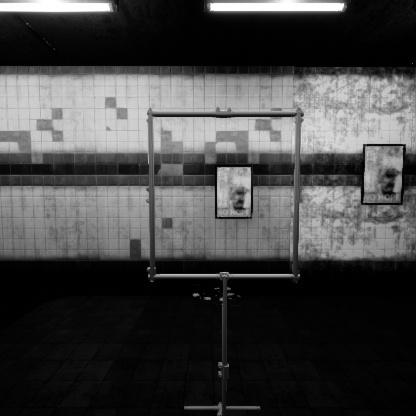gate: (148, 134, 317, 306)
